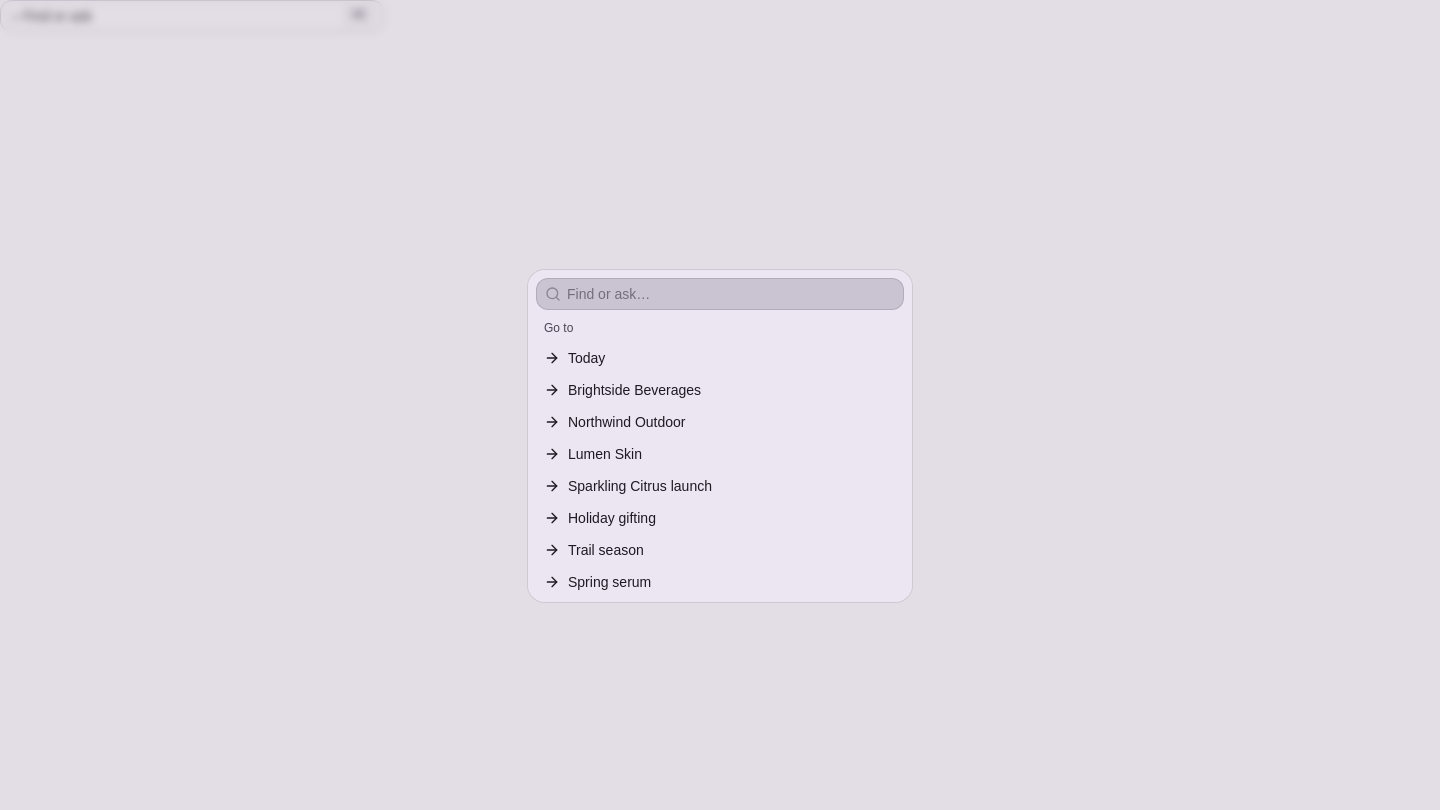
Test: choosing the conversation opens it full screen with context and a scripted answer
The image size is (1440, 810).
Later steps or results of the test are not shown.
Type "How does this compare with her last three?" into the dropdown at (732, 294), box [561,284,903,304]
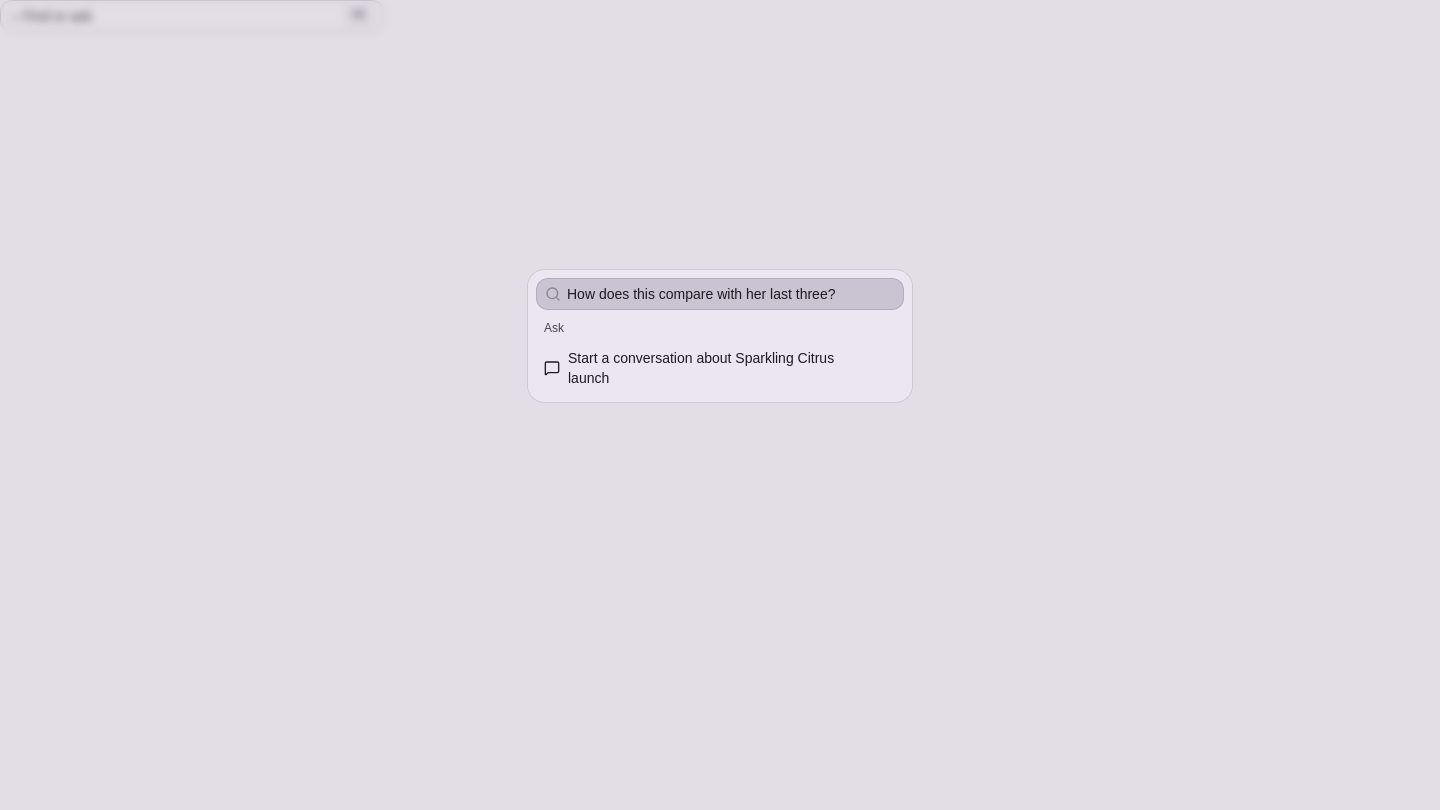
Click the option "Start a conversation about Sparkling Citrus launch" at (720, 368), box [536,342,904,394]
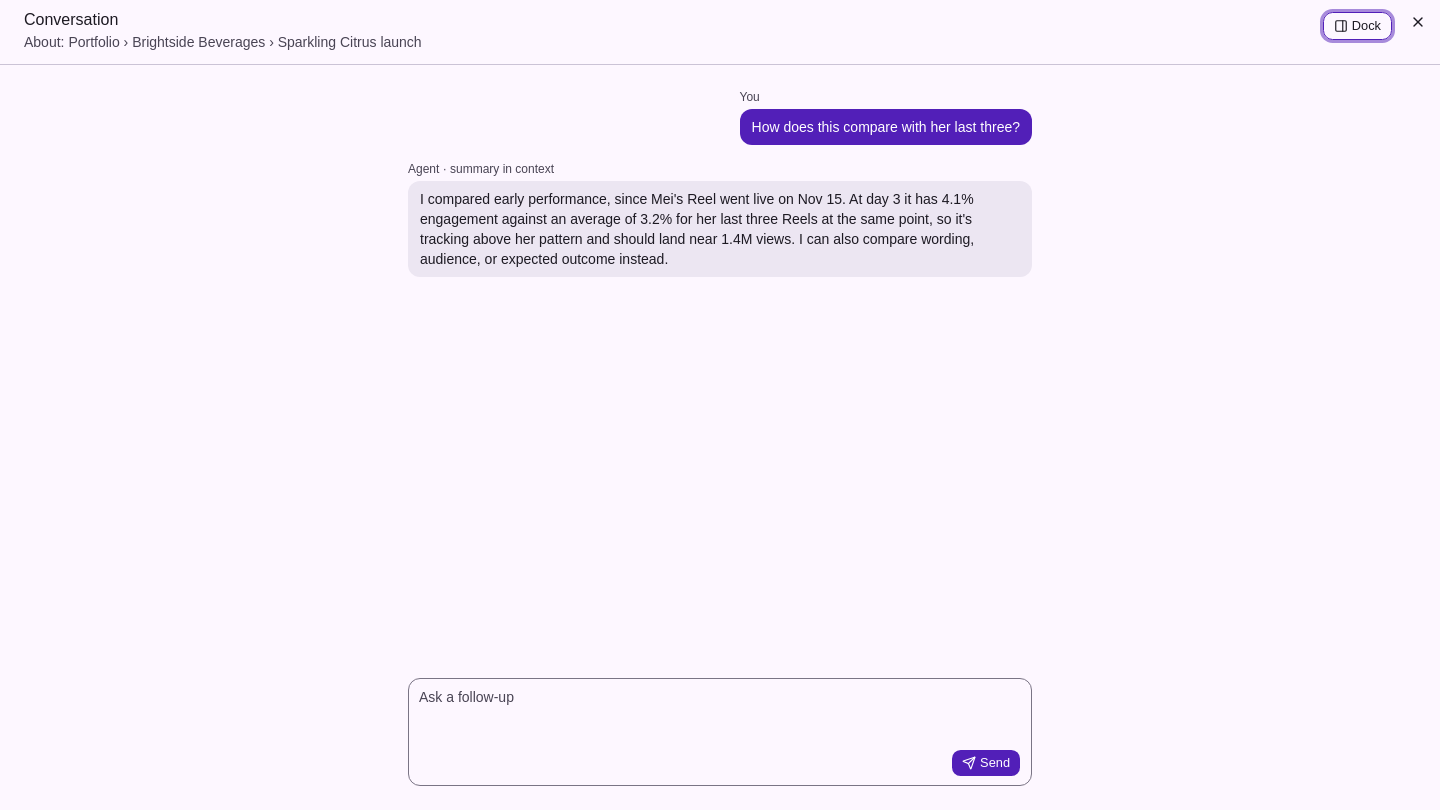
Check: the dialog "Conversation" shows "About: Portfolio › Brightside Beverages › Sparkling Citrus launch"
Check: the dialog "Conversation" shows "How does this compare with her last three?", box [752,119,1020,135]
Check: the dialog "Conversation" shows "compared early performance", box [420,191,974,267]
